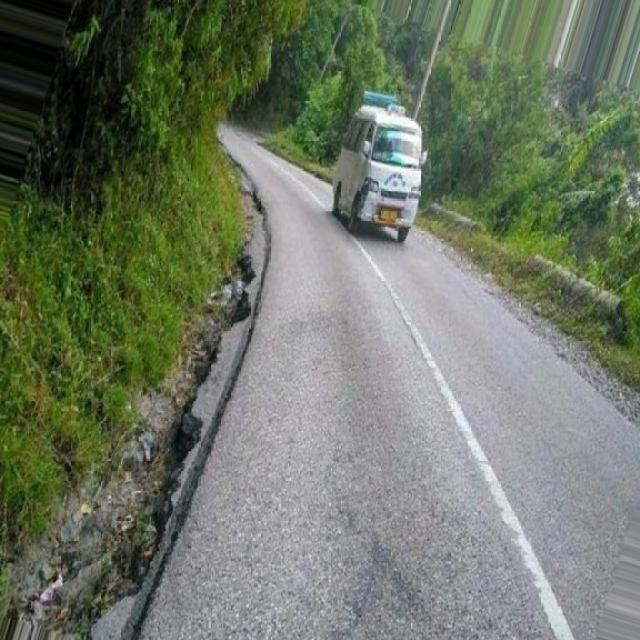Pinggir: (36, 176, 282, 640)
